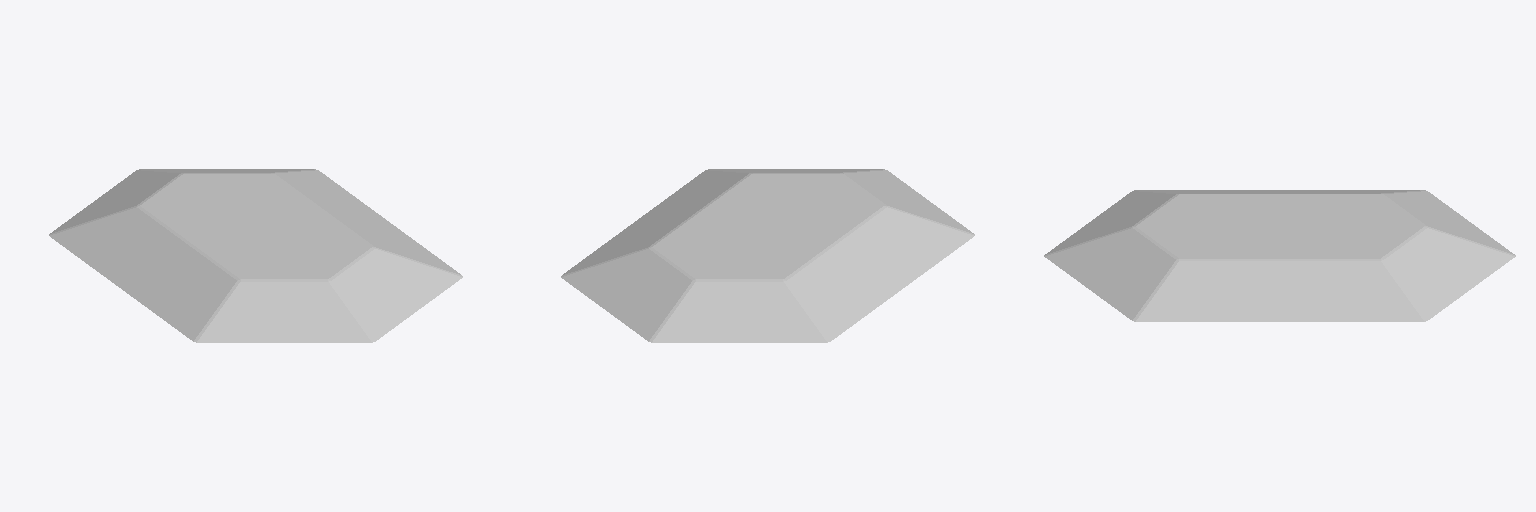
File: gem-6-long.obj
3 views of the same model, side by side, from view 1: azimuth 30°, elevation 25°; view 2: azimuth 150°, elevation 25°; view 3: azimuth 270°, elevation 25° (orthographic).
Parts seen in each view (by area): view 1: gem_Cylinder; view 2: gem_Cylinder; view 3: gem_Cylinder.
Boxes of the visible parts, x1,y1,x2,y2 form: gem_Cylinder: [49, 169, 462, 342]; gem_Cylinder: [561, 169, 974, 342]; gem_Cylinder: [1044, 190, 1515, 321].
Bounding box in the file's own units: 16.47 × 3.44 × 24.91.